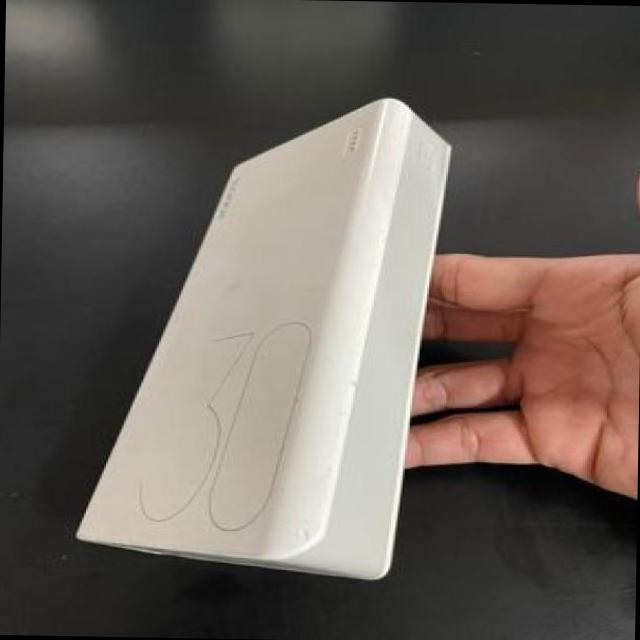power_bank: (62, 90, 468, 587)
